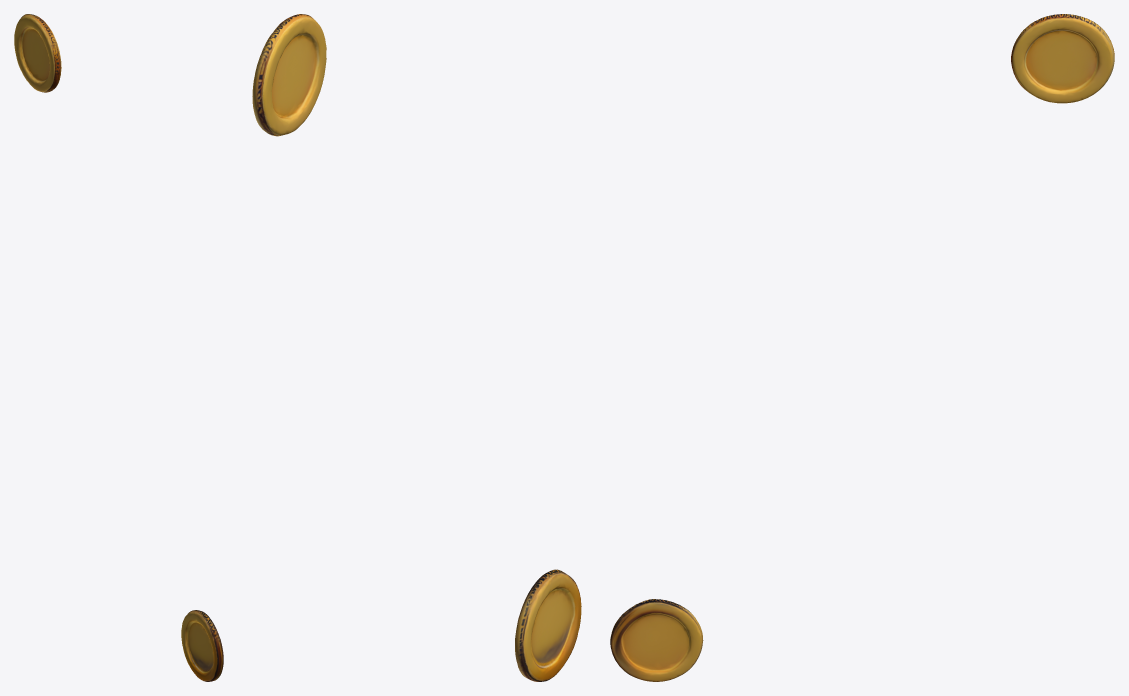
File: gold+coins+3d+model.obj
3 renders of one model, left to right at view 1: azimuth 30°, elevation 25°; view 2: azimuth 150°, elevation 25°; view 3: azimuth 270°, elevation 25°, orthographic. The views are drawn at different scales.
Parts seen in each view (by area): view 1: tripo_node_6abd14e9-345d-4bb3-a2ed-16238aa077ea; view 2: tripo_node_6abd14e9-345d-4bb3-a2ed-16238aa077ea; view 3: tripo_node_6abd14e9-345d-4bb3-a2ed-16238aa077ea.
Boxes of the visible parts, x1,y1,x2,y2 form: tripo_node_6abd14e9-345d-4bb3-a2ed-16238aa077ea: (14, 14, 223, 681); tripo_node_6abd14e9-345d-4bb3-a2ed-16238aa077ea: (252, 14, 581, 681); tripo_node_6abd14e9-345d-4bb3-a2ed-16238aa077ea: (610, 14, 1114, 681).
Bounding box in the file's own units: 0.0168 × 0.9997 × 0.6857.
1 material, 1 textured.
